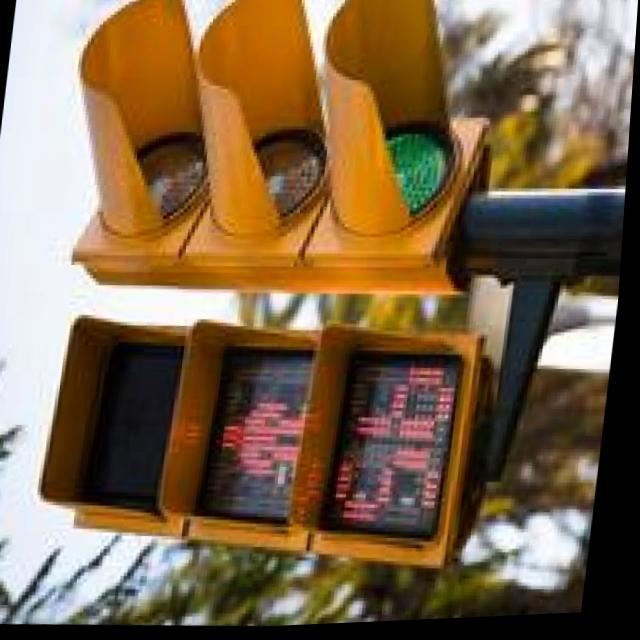green_light: (272, 48, 531, 255)
